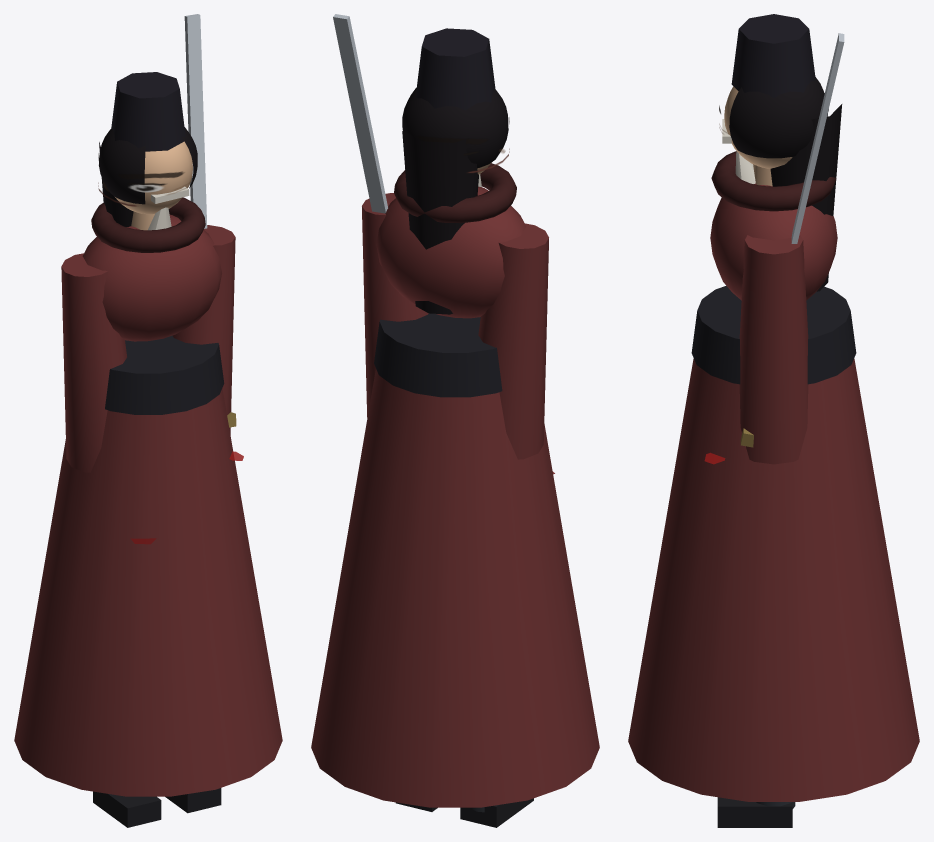
The model's file is gu_yue_hero_1.glb.
3 views of the same model, side by side, from view 1: azimuth 30°, elevation 25°; view 2: azimuth 150°, elevation 25°; view 3: azimuth 270°, elevation 25° (orthographic). The views are drawn at different scales.
Size of the model in its own units: 0.6377 by 1.97 by 0.6475.
Materials: 19 (1 with a texture image).
